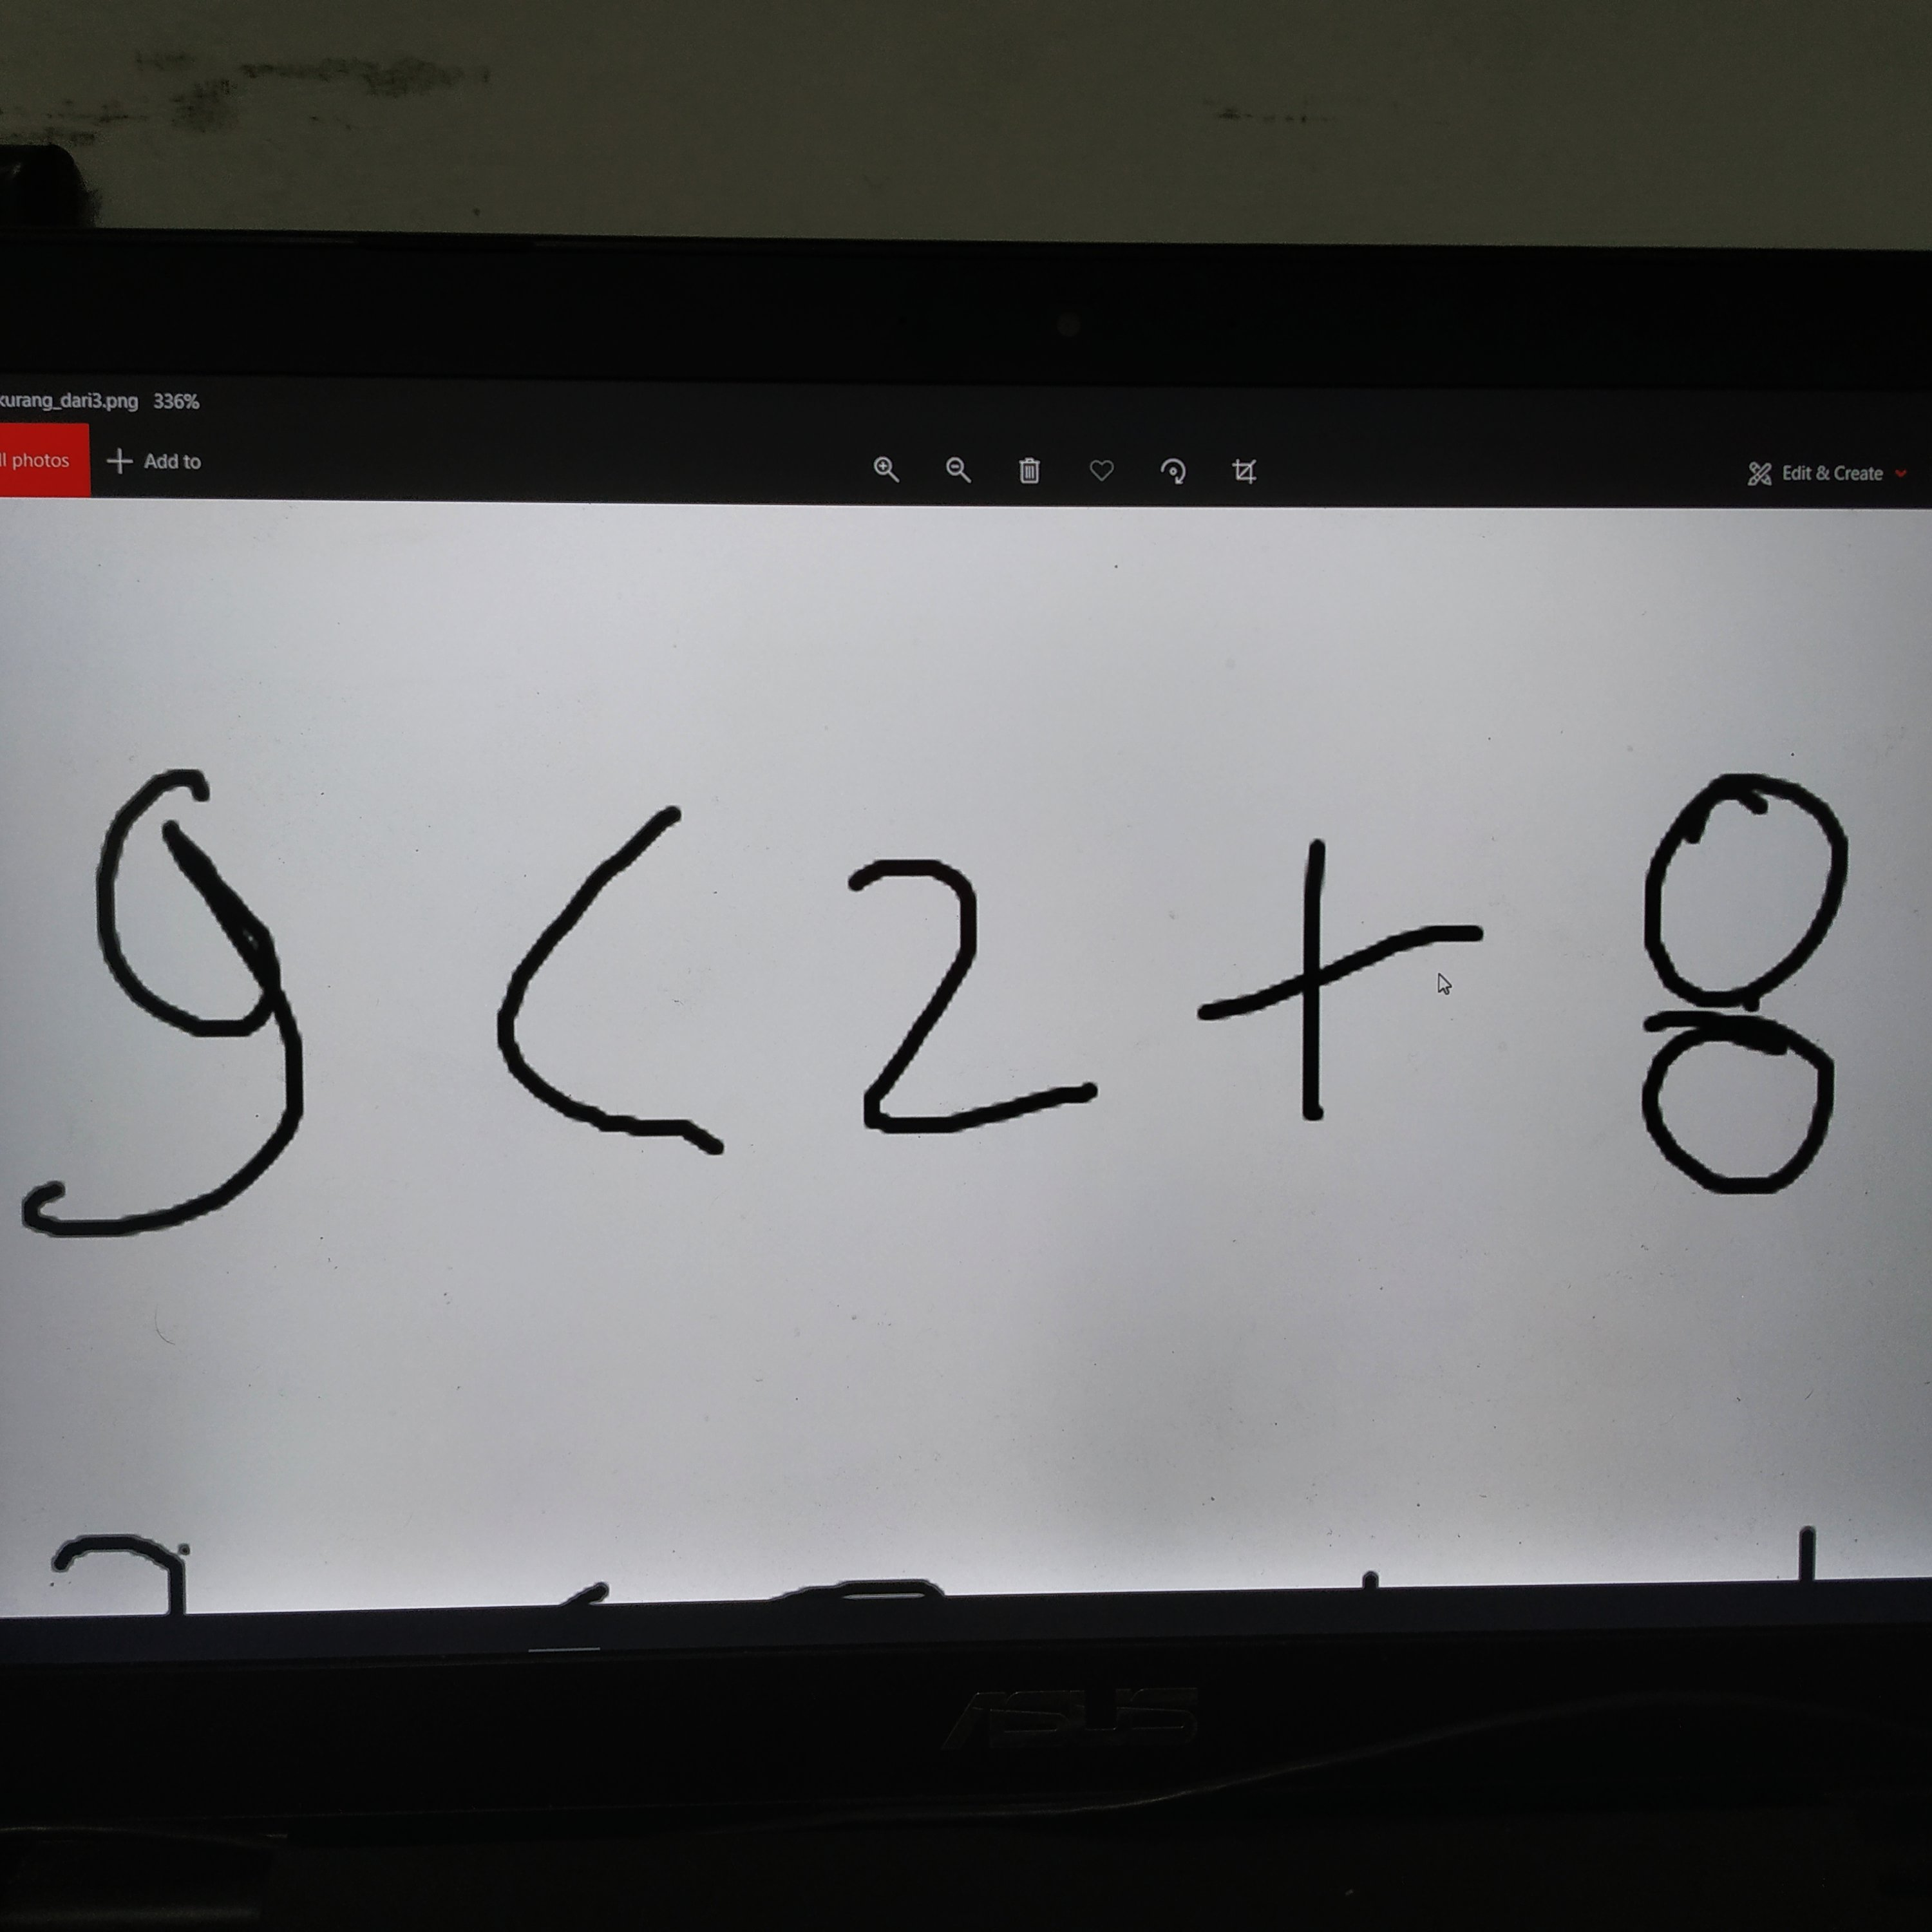lessthan: (475, 791, 768, 1194)
num2: (809, 850, 1128, 1149)
num8: (1611, 753, 1870, 1229)
num9: (18, 749, 336, 1256)
sum: (1173, 837, 1527, 1143)
